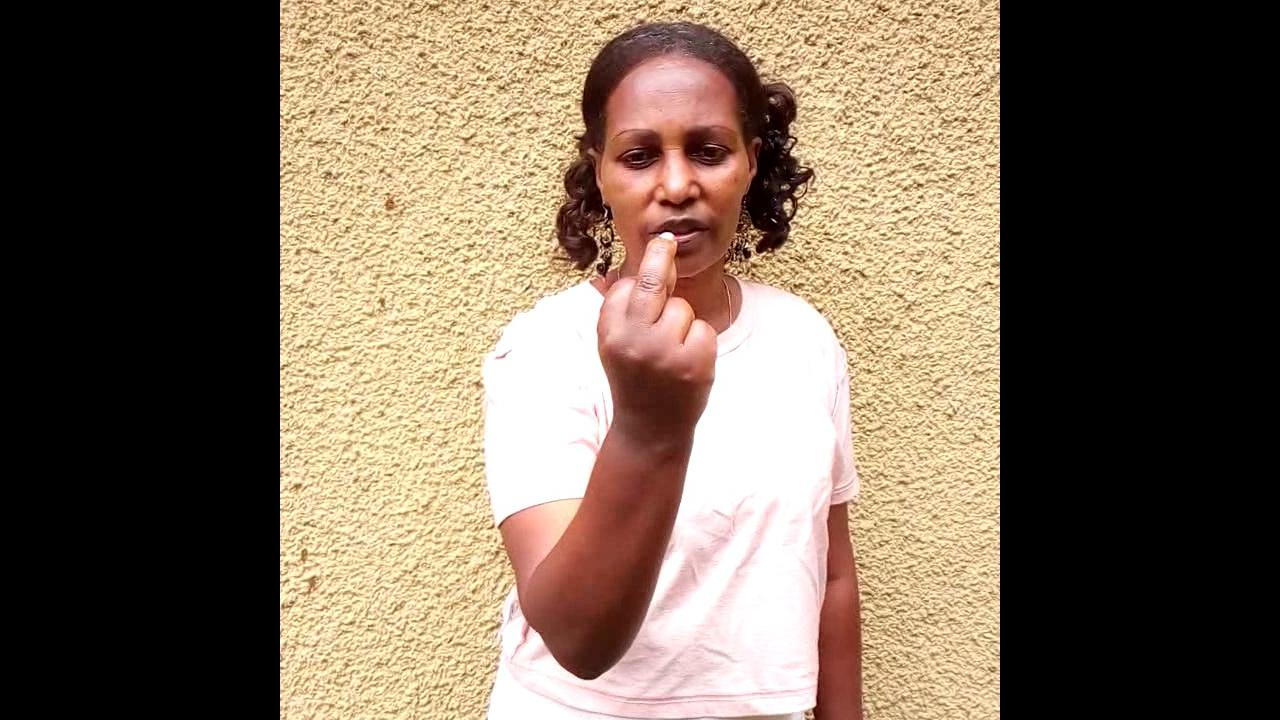CHE: (594, 230, 714, 559)
